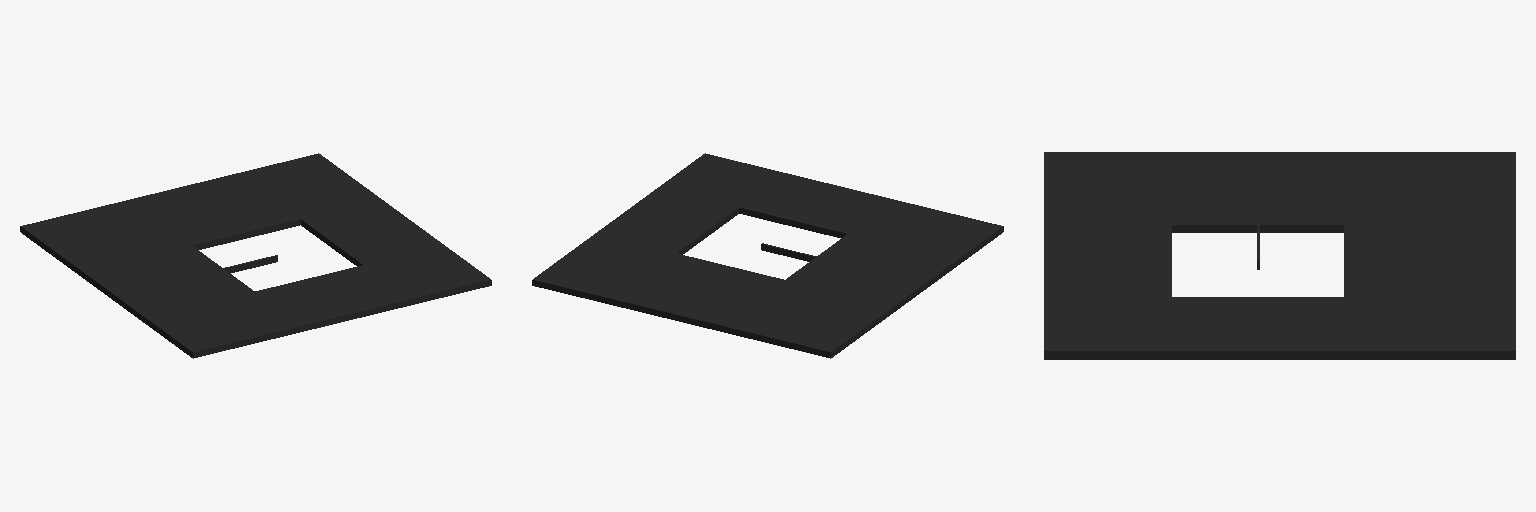
URDF robot description (Room105):
<robot name="Room105">
    <link name="_name">
        <visual> 
            <origin rpy="0.0 0.0 0.0" xyz="-0.4928773492279906 -0.5069972343774067 -0.010000000000000002" />
                <geometry>
                    <mesh filename="Room105/Room105.obj" scale="1 1 0.1" />
                </geometry>

            <material name="black">
                <color rgba="0.2 0.2 0.2 0.95" />
            </material>
        </visual>

       <collision concave="yes" name="collision_0">
            <origin rpy="0.0 0.0 0.0" xyz="-0.4928773492279906 -0.5069972343774067 -0.010000000000000002" />
            <geometry>
                <mesh filename="Room105/Room105_vhacd.obj" scale="1 1 0.1" />
            </geometry>
        </collision>

        <inertial> 
            <mass value="0" />
            <inertia ixx="0" ixy="0" ixz="0" iyy="0" iyz="0" izz="0" />
        </inertial> 
    </link>
</robot>

--- What the picture shows (computed from the rendered views, not written in the file) ---
The picture shows the robot from 3 angles, left to right: view 1: azimuth 30°, elevation 25°; view 2: azimuth 150°, elevation 25°; view 3: azimuth 270°, elevation 25°; orthographic projection.
Robot: Room105 — 1 links, 0 joints (none); root link _name; default pose: every joint at zero.
Visible links, largest first — view 1: _name; view 2: _name; view 3: _name.
Link boxes in pixels (x1,y1,x2,y2): _name: (20,153,491,358); _name: (532,153,1003,358); _name: (1044,152,1515,359).
Bounding box of the posed robot: 1 × 1 × 0.02 m (x, y, z).
Meshes: 1 distinct files referenced, 1 mesh visuals loaded (1 OBJ).